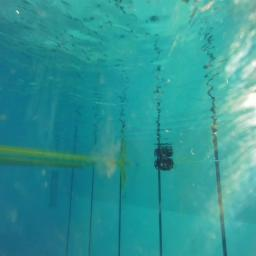Side: (154, 157, 174, 172)
